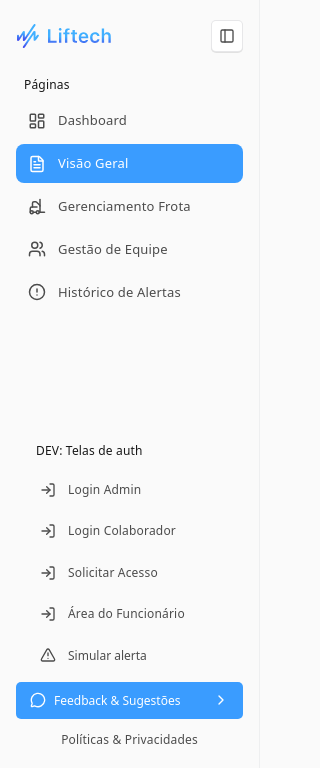
Sidebar component › keeps the feedback button, icon-only with an accessible name, while collapsed
Step 1. Click the button named "colapsar menu" → (227, 36), box [211,20,243,52]
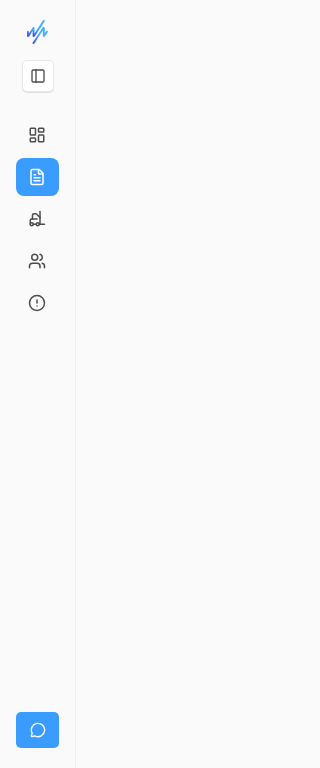
Expected: the button named "Feedback & Sugestões" no longer shows "Feedback & Sugestões", [16,712,59,748]
